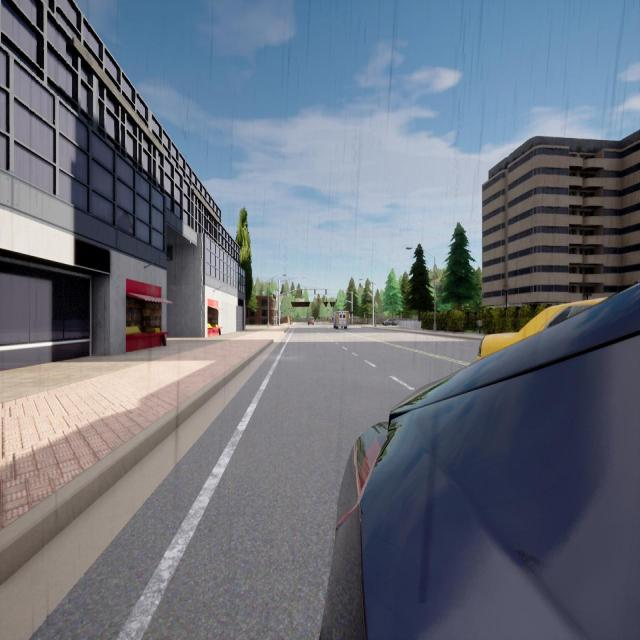Vehicle: (321, 284, 639, 638), (477, 299, 605, 359), (334, 311, 347, 329), (382, 318, 398, 326), (308, 317, 314, 325)
traffic_light: (314, 290, 316, 294), (351, 311, 353, 313), (318, 298, 319, 302), (301, 290, 302, 294), (326, 299, 327, 302), (336, 299, 336, 302), (326, 290, 326, 294)
